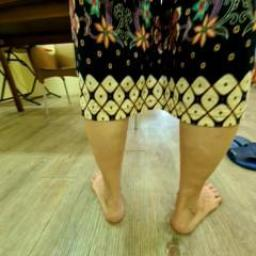Back View -Both Feet-: (70, 152, 244, 244)
